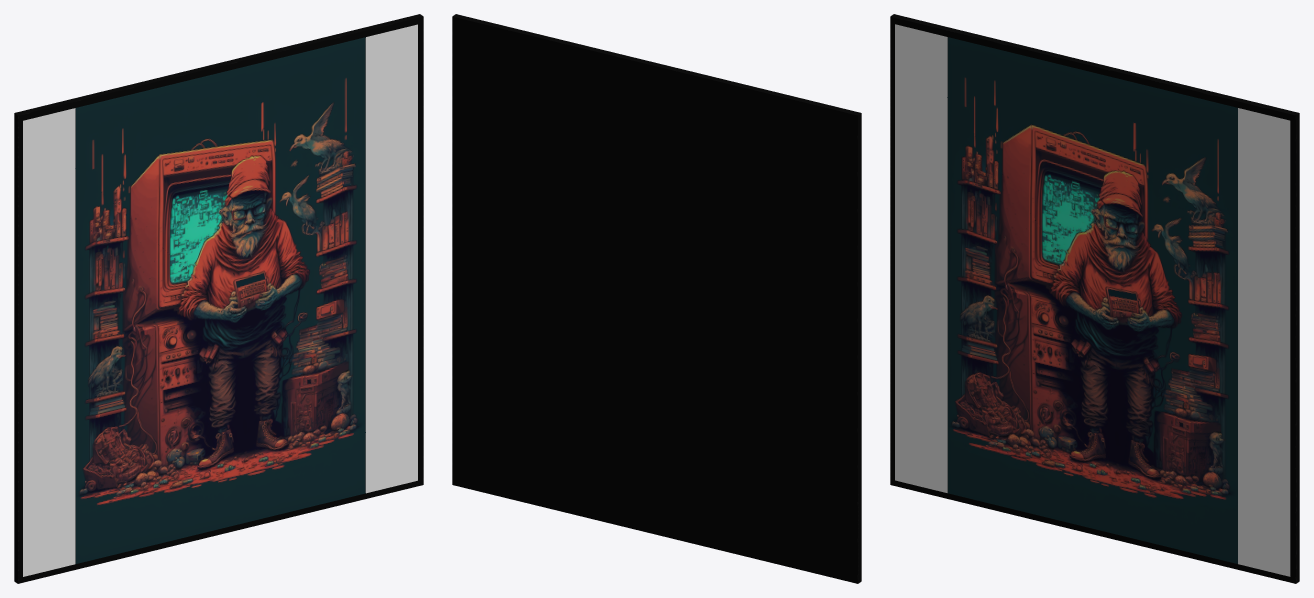
File: Kid5.glb
3 views of the same model, side by side, from view 1: azimuth 30°, elevation 25°; view 2: azimuth 150°, elevation 25°; view 3: azimuth 330°, elevation 25° (orthographic).
Visible parts, largest first — view 1: mesh_id1, node_id33; view 2: node_id33; view 3: mesh_id1, node_id33.
Boxes of the visible parts, x1=… form: mesh_id1: x1=23, y1=24, x2=417, y2=576; node_id33: x1=14, y1=14, x2=423, y2=583; node_id33: x1=452, y1=14, x2=861, y2=583; mesh_id1: x1=895, y1=24, x2=1290, y2=576; node_id33: x1=890, y1=14, x2=1299, y2=583.
Bounding box in the file's own units: 0.8851 × 0.9764 × 0.0138.
Materials: 2 (2 with a texture image).
